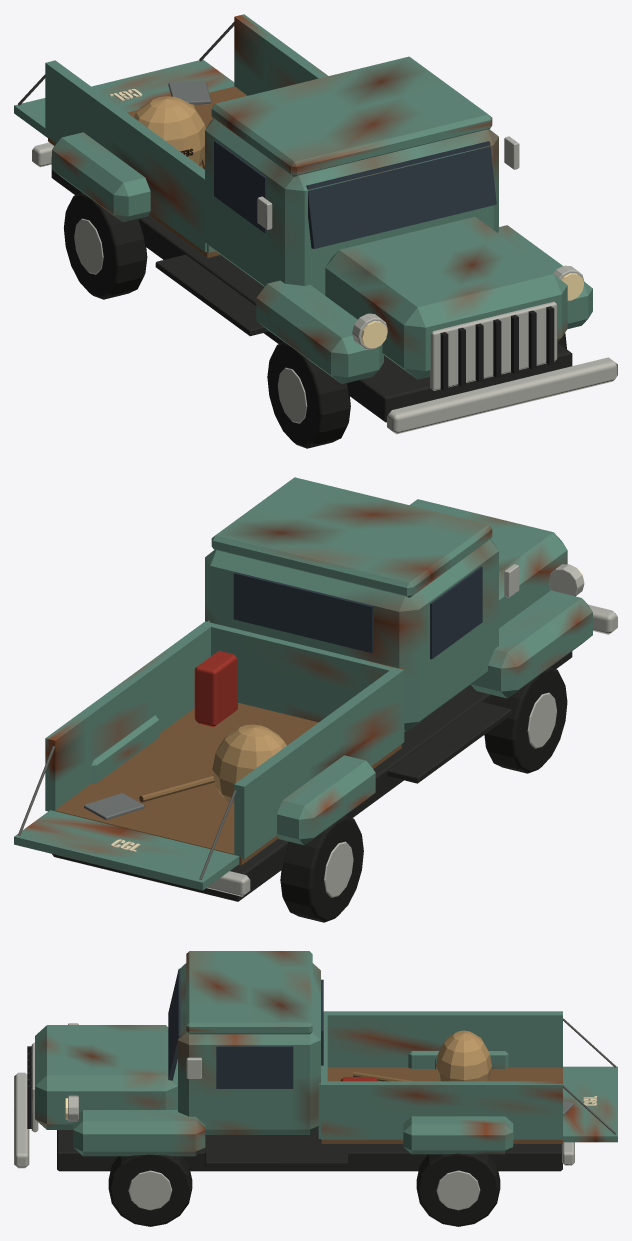
File: MrSirTruck.glb
3 views of the same model, one above another, from view 1: azimuth 30°, elevation 25°; view 2: azimuth 150°, elevation 25°; view 3: azimuth 270°, elevation 25° (orthographic). The views are drawn at different scales.
Parts seen in each view (by area): view 1: MrSirTruck.001; view 2: MrSirTruck.001; view 3: MrSirTruck.001.
Boxes of the visible parts, left/top/right/bottom form: MrSirTruck.001: left=14, top=14, right=617, bottom=448; MrSirTruck.001: left=14, top=477, right=617, bottom=922; MrSirTruck.001: left=14, top=951, right=617, bottom=1226.
Size of the model in its own units: 2.09 by 1.96 by 5.49.
